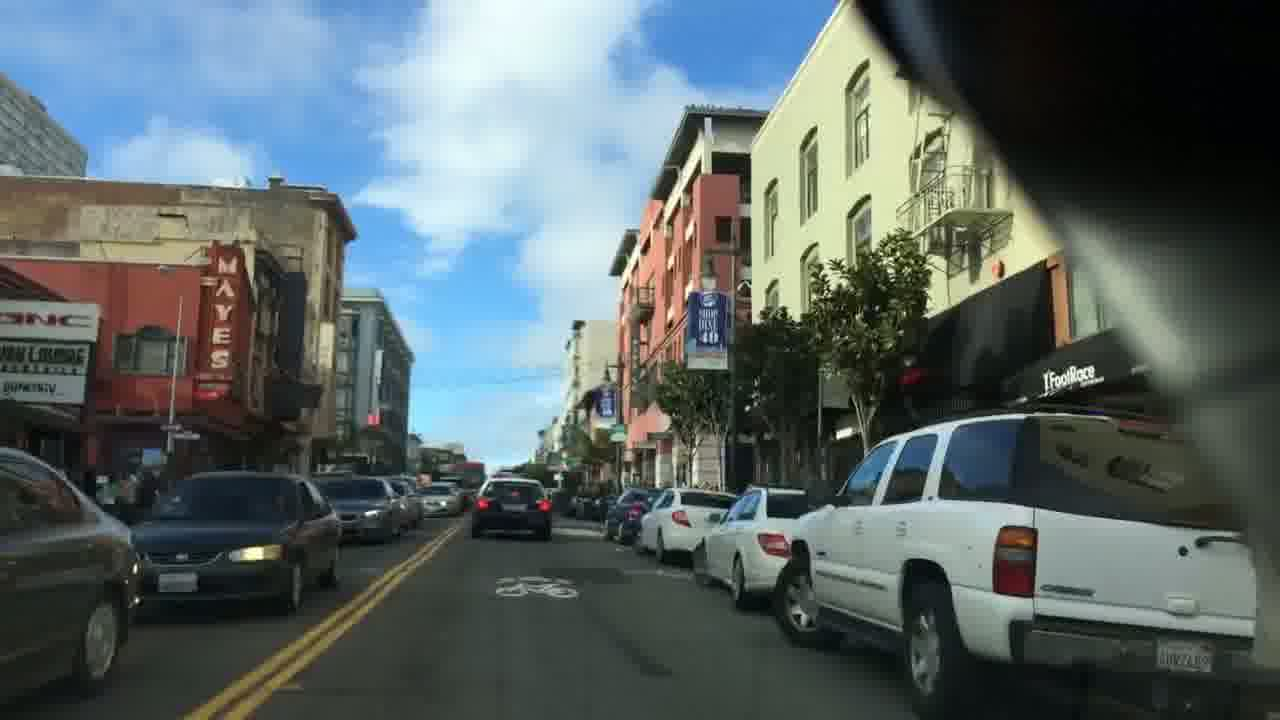car: (769, 405, 1263, 719), (0, 444, 144, 719), (130, 468, 341, 613), (690, 483, 814, 610), (632, 486, 737, 564), (314, 473, 401, 543), (471, 475, 551, 539), (603, 486, 663, 545), (412, 479, 464, 516)
